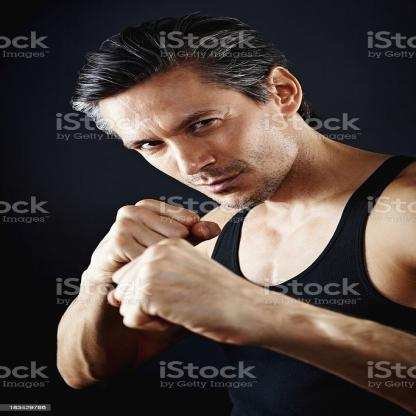fist: (112, 240, 259, 340)
